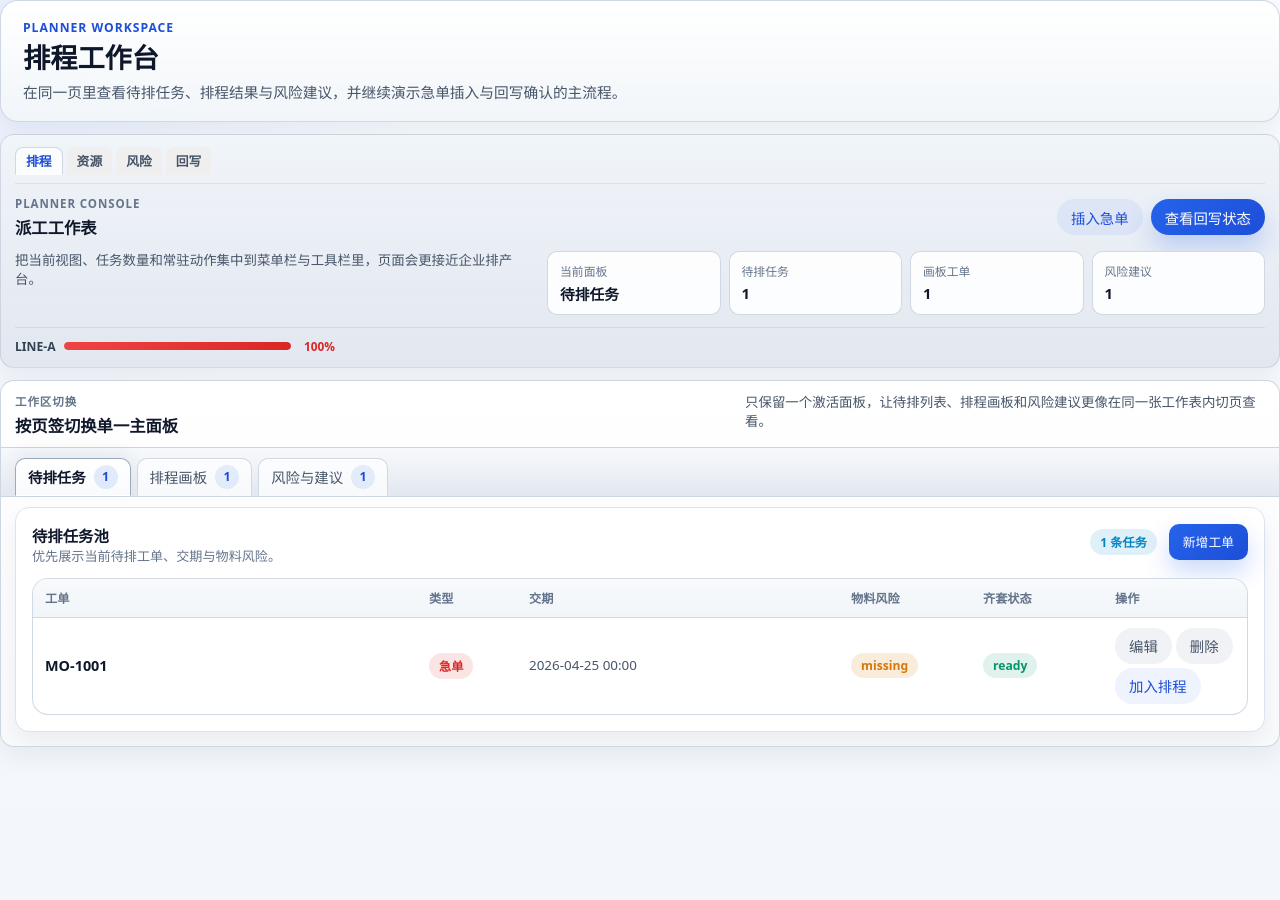
Test: PlannerWorkbenchView › 点击插入急单时先打开表单而不立即触发重排
Click the button with test id "open-urgent-order": (1100, 217) [1057,199,1143,235]
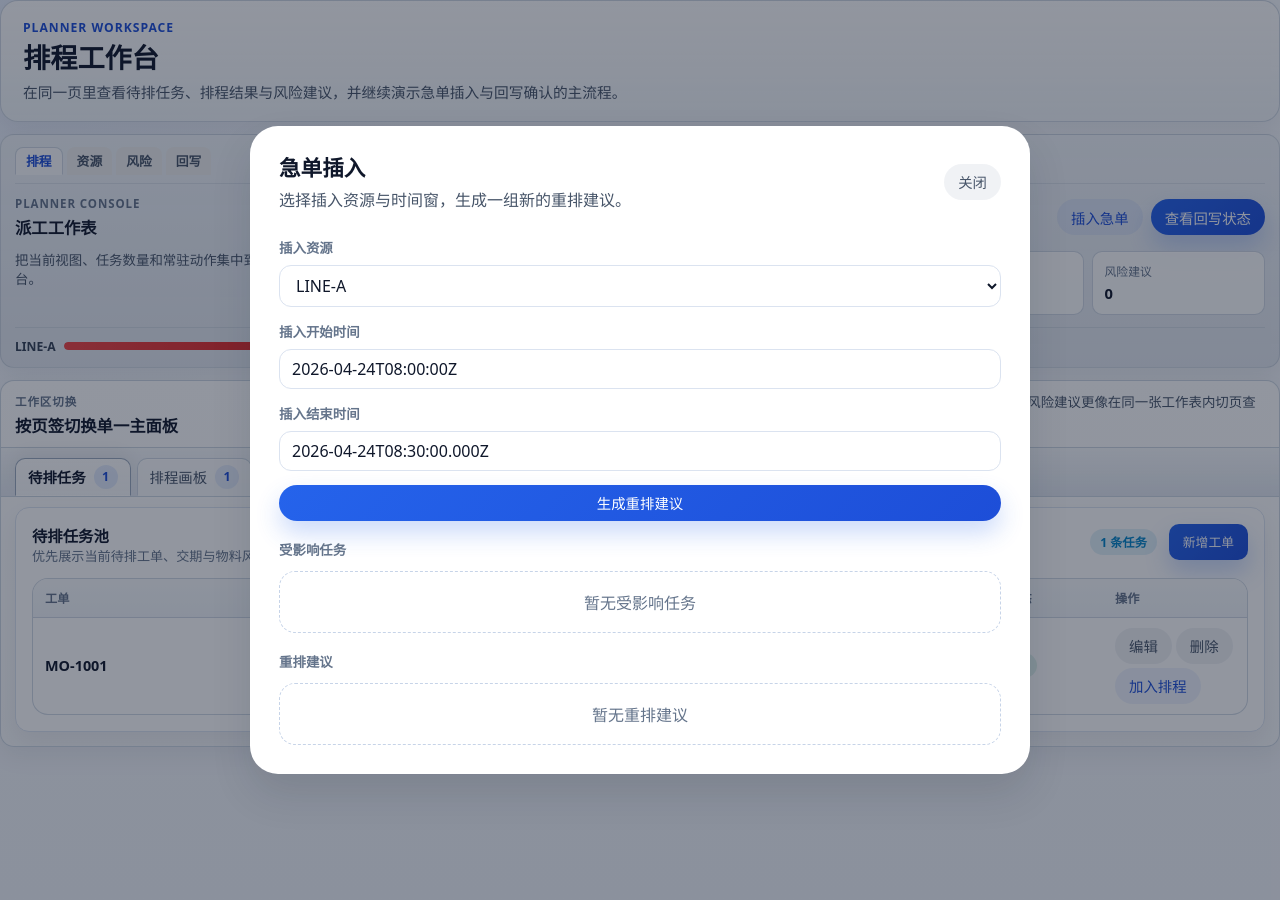
Check: the dialog named "急单插入" is shown, box [250,126,1030,774]
